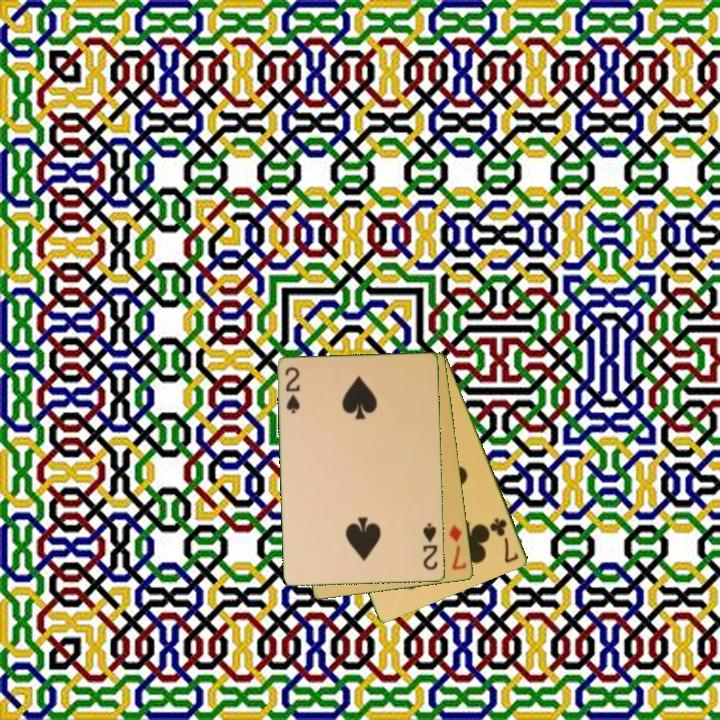2s: (420, 519, 441, 573), (282, 364, 303, 417)
7c: (487, 515, 522, 566)
7d: (446, 522, 470, 573)
